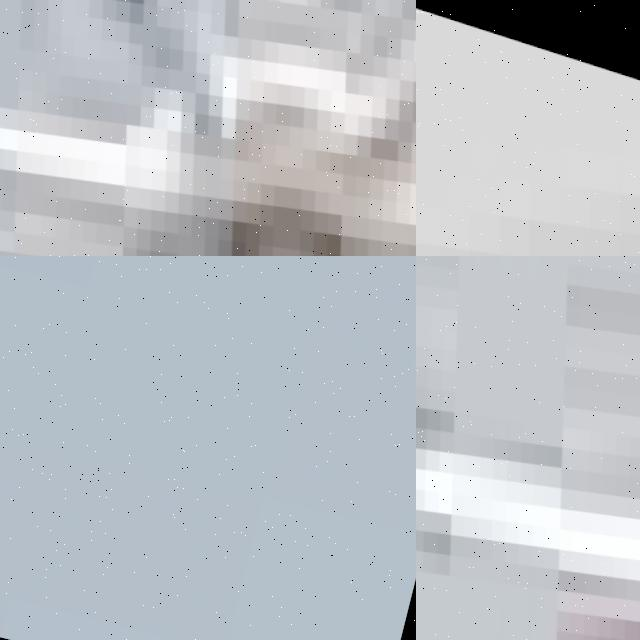0: (0, 0, 416, 256), (416, 256, 640, 640)
drone: (416, 0, 640, 256)
